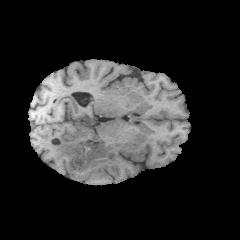glioma: (50, 131, 136, 179)
